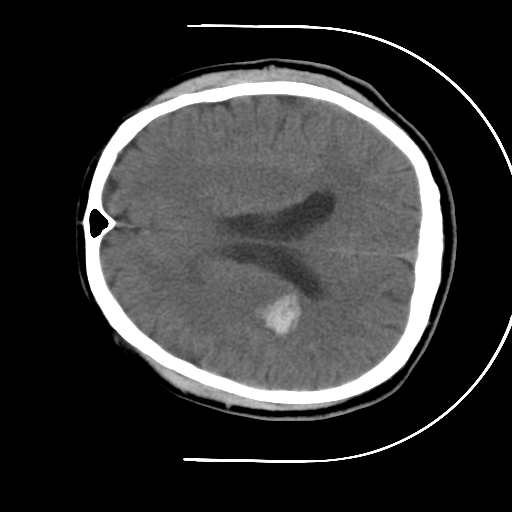a: (239, 281, 311, 349)
